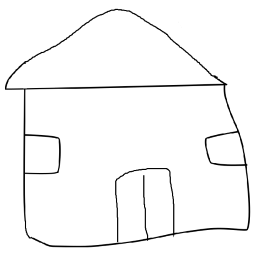big_house: (0, 0, 260, 255)
door: (108, 158, 190, 247)
open_window: (16, 122, 69, 183), (197, 126, 250, 177)
roof: (3, 5, 232, 97)
wall: (15, 79, 252, 250)
